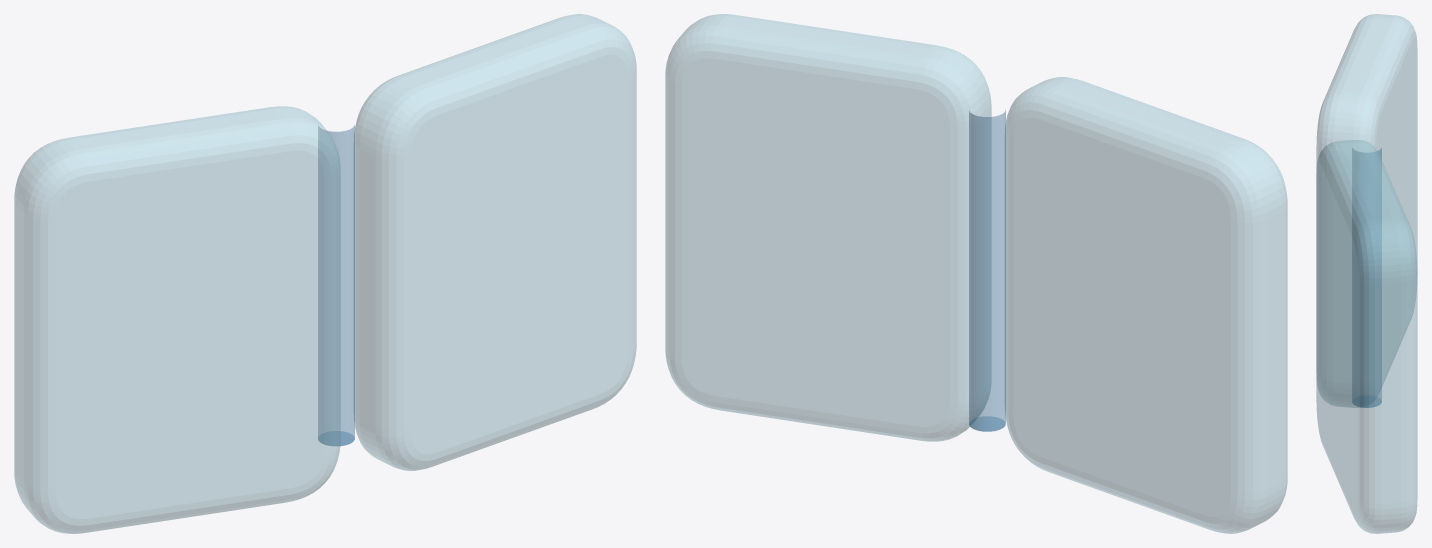
3 renders of one model, left to right at view 1: azimuth 30°, elevation 25°; view 2: azimuth 150°, elevation 25°; view 3: azimuth 270°, elevation 25°, orthographic. The views are drawn at different scales.
Parts seen in each view (by area): view 1: hinged-left, hinged-right, elastic-hinge; view 2: hinged-right, hinged-left, elastic-hinge; view 3: hinged-right, hinged-left, elastic-hinge.
Part boxes in pixels (x1,y1,x2,y2): hinged-left: (14,106,340,533); hinged-right: (354,14,636,470); elastic-hinge: (318,125,354,446); hinged-right: (665,14,991,441); hinged-left: (1005,77,1287,533); elastic-hinge: (969,111,1005,431); hinged-right: (1316,140,1417,533); hinged-left: (1316,14,1417,407); elastic-hinge: (1352,148,1381,407).
Bounding box in the file's own units: 2.83 × 1.7 × 0.5025.
